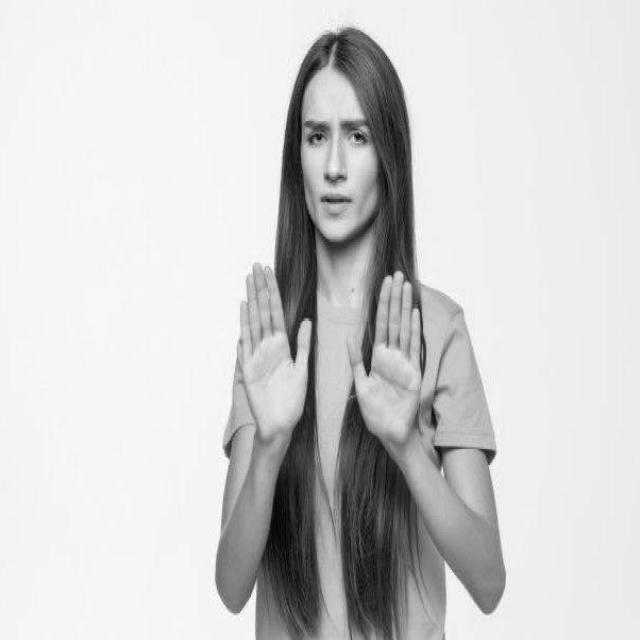stop: (234, 255, 314, 446), (344, 266, 425, 451)
